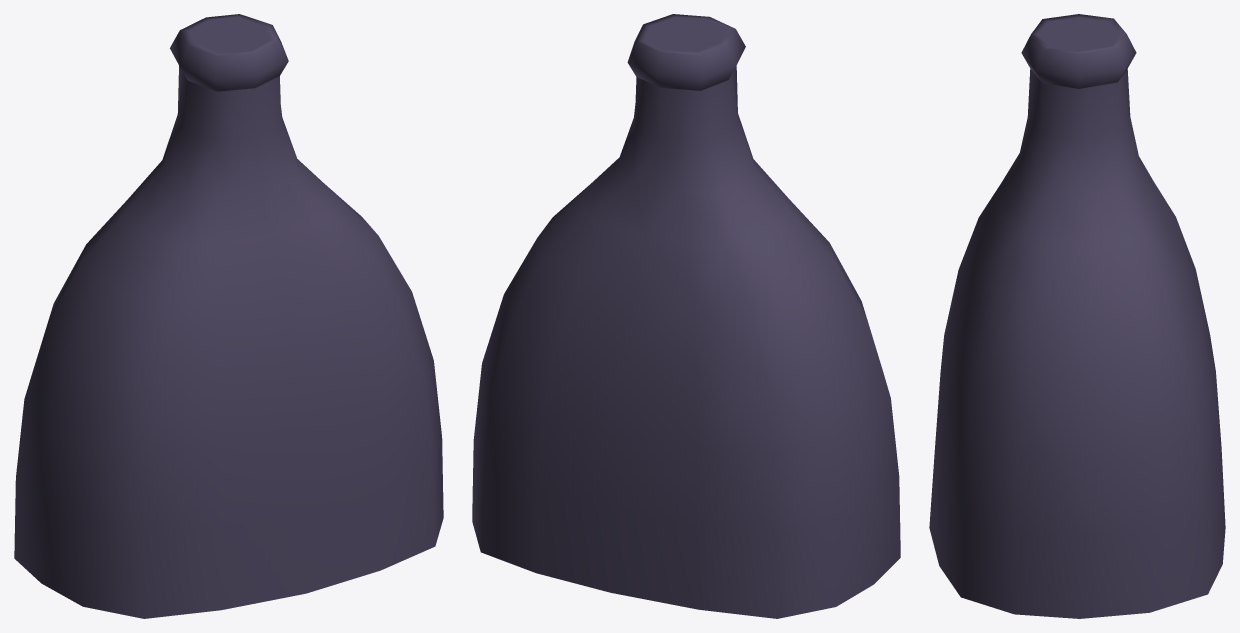
The model's file is flaske4_lilla.fbx.
3 views of the same model, side by side, from view 1: azimuth 30°, elevation 25°; view 2: azimuth 150°, elevation 25°; view 3: azimuth 270°, elevation 25° (orthographic).
Parts seen in each view (by area): view 1: pCube14; view 2: pCube14; view 3: pCube14.
Part boxes in pixels (<box>): pCube14: <box>14,14,443,618</box>; pCube14: <box>472,14,900,618</box>; pCube14: <box>929,14,1225,618</box>.
Bounding box in the file's own units: 1.71 × 2.17 × 1.18.
